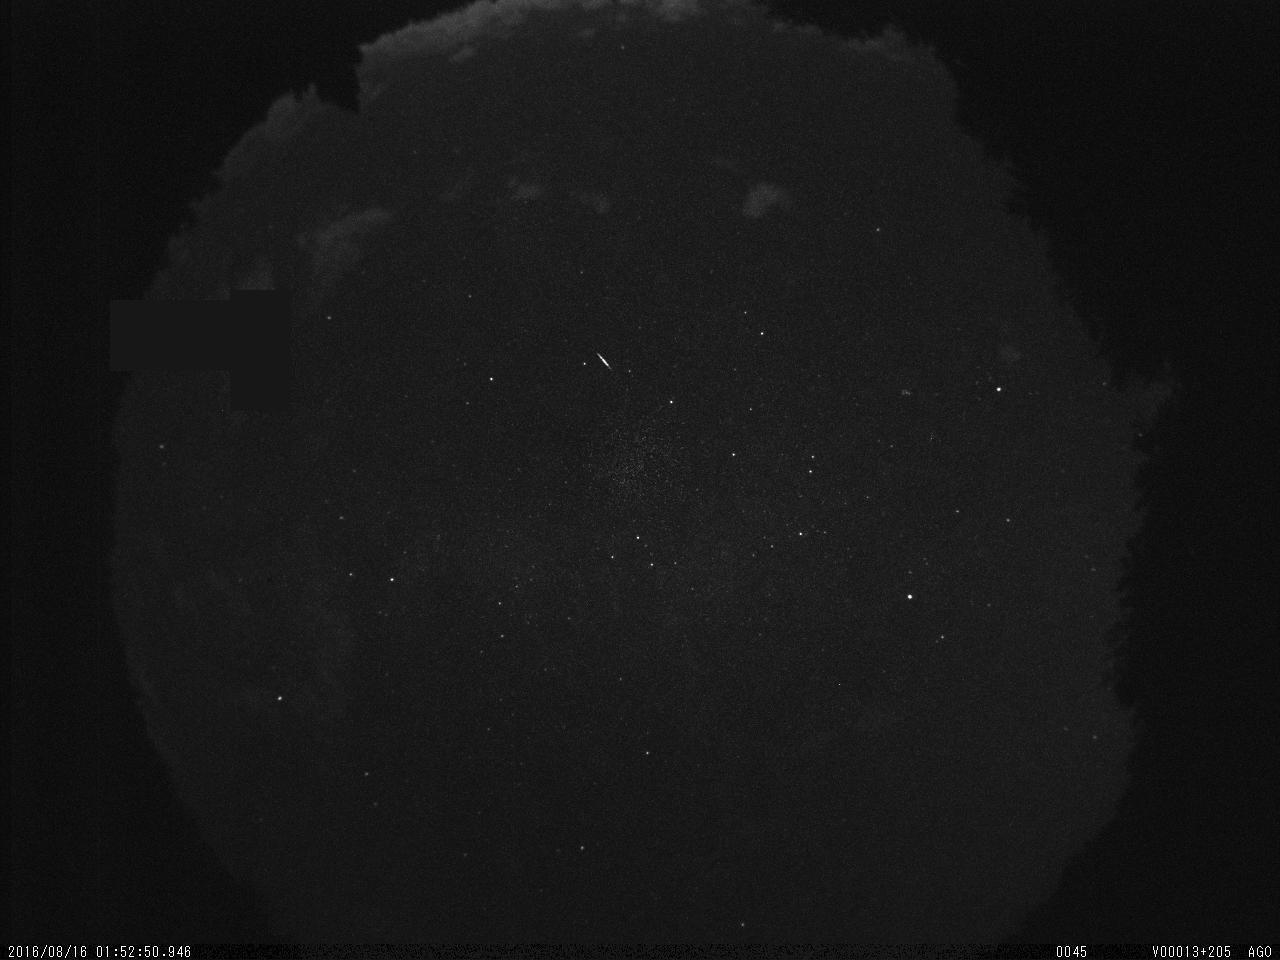meteor: (590, 347, 620, 377)
